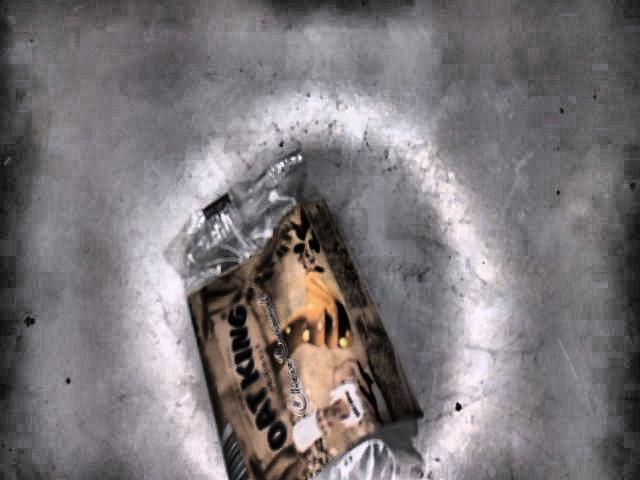Plastic: (169, 152, 435, 480)
